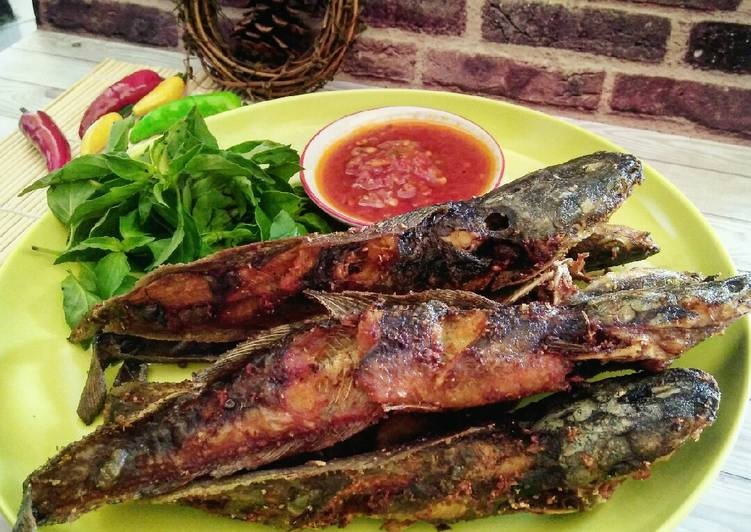pecel_lele: (14, 269, 748, 528), (164, 358, 723, 531), (85, 155, 659, 298)
